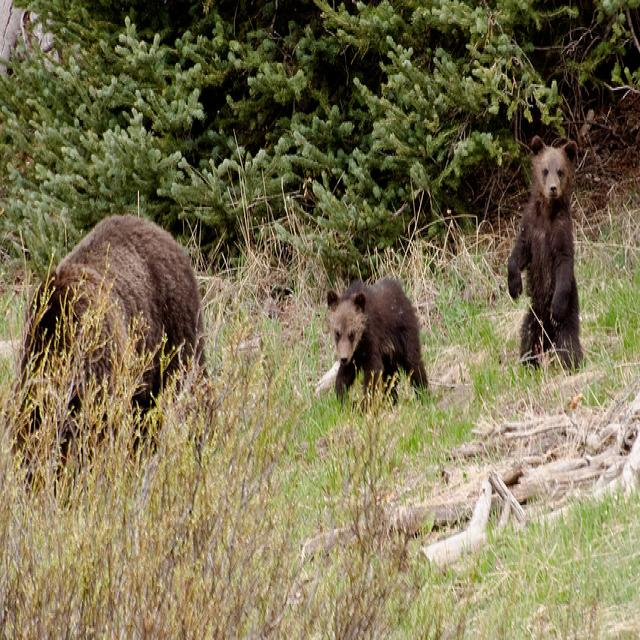Bear: (9, 229, 210, 499), (506, 132, 586, 377), (321, 268, 431, 391)
